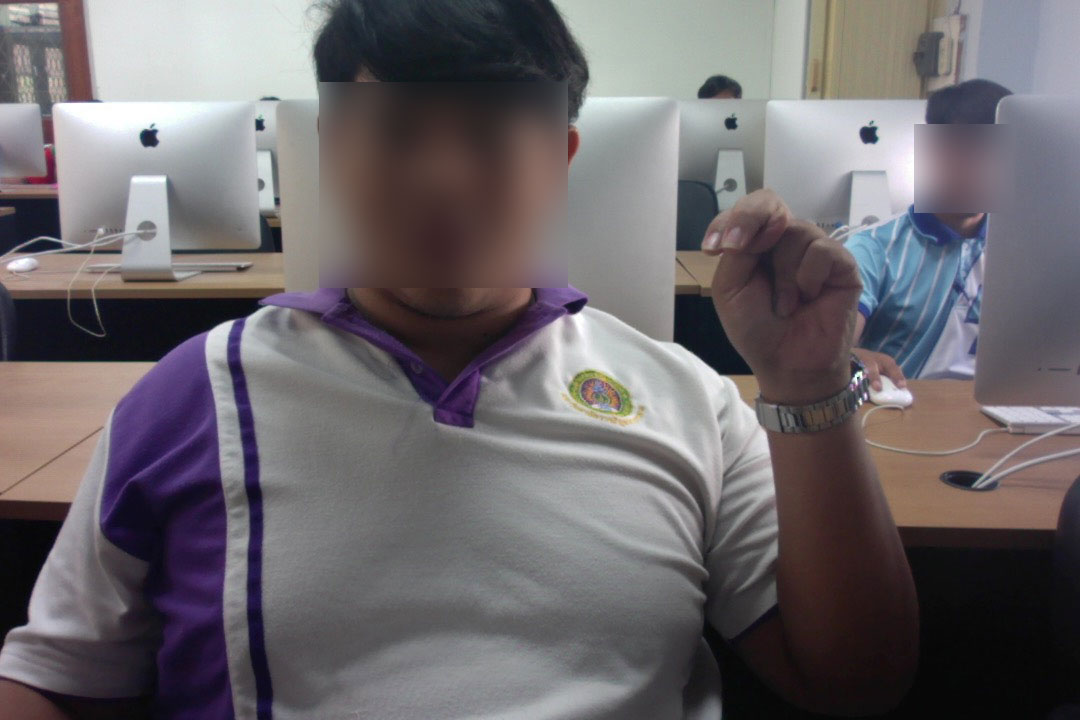nor: (696, 182, 865, 395)
